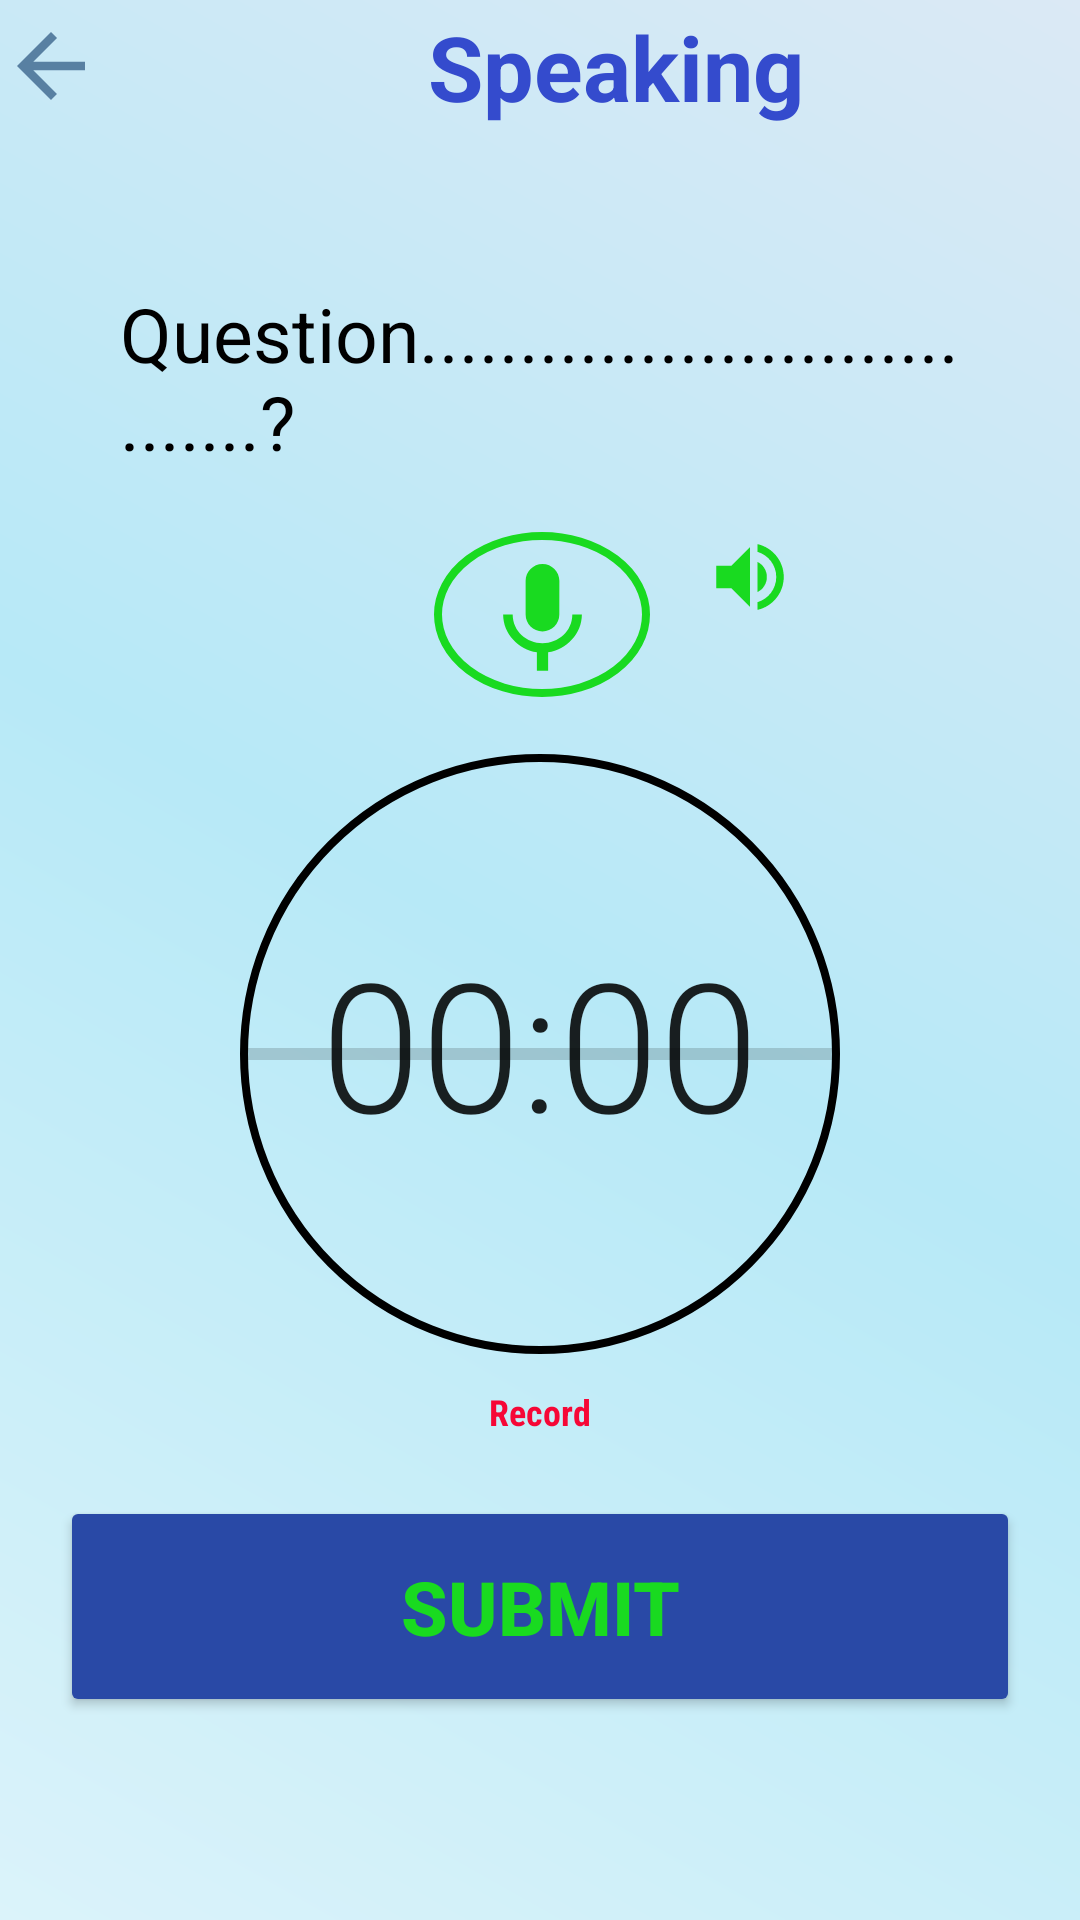

Icons on this 1080px×1920px Android screen, each with the point to tap as (x=x, y=y):
back: (x=51, y=66)
keyboard record: (x=542, y=614)
volume up: (x=750, y=577)
